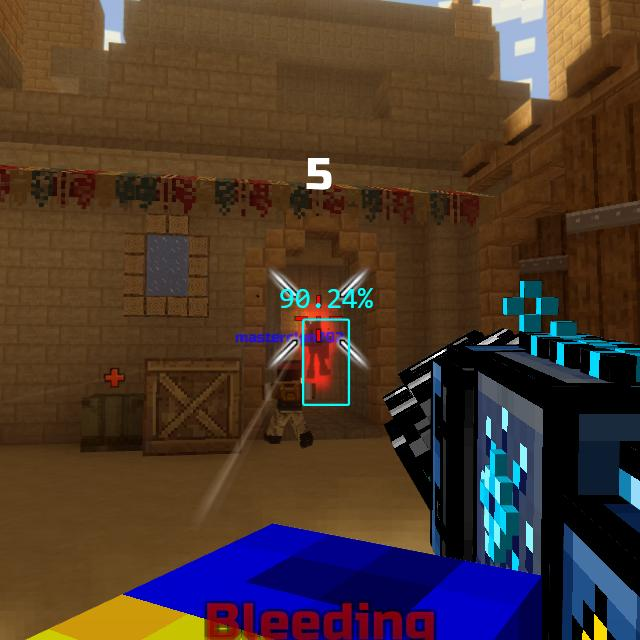Enemy: (301, 319, 334, 378)
